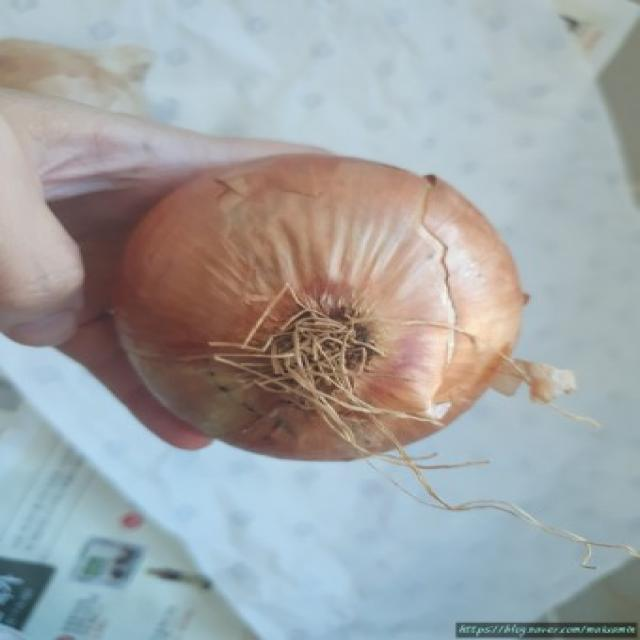onion: (108, 154, 578, 464)
